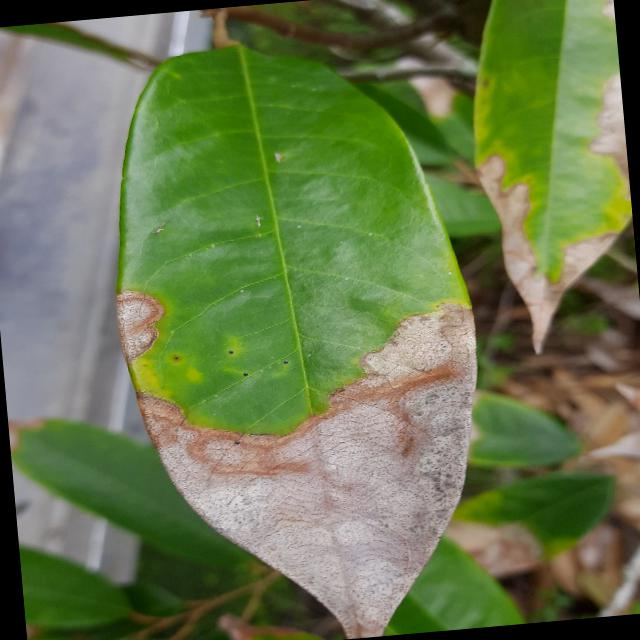Leaf Blight: (96, 8, 507, 639)
